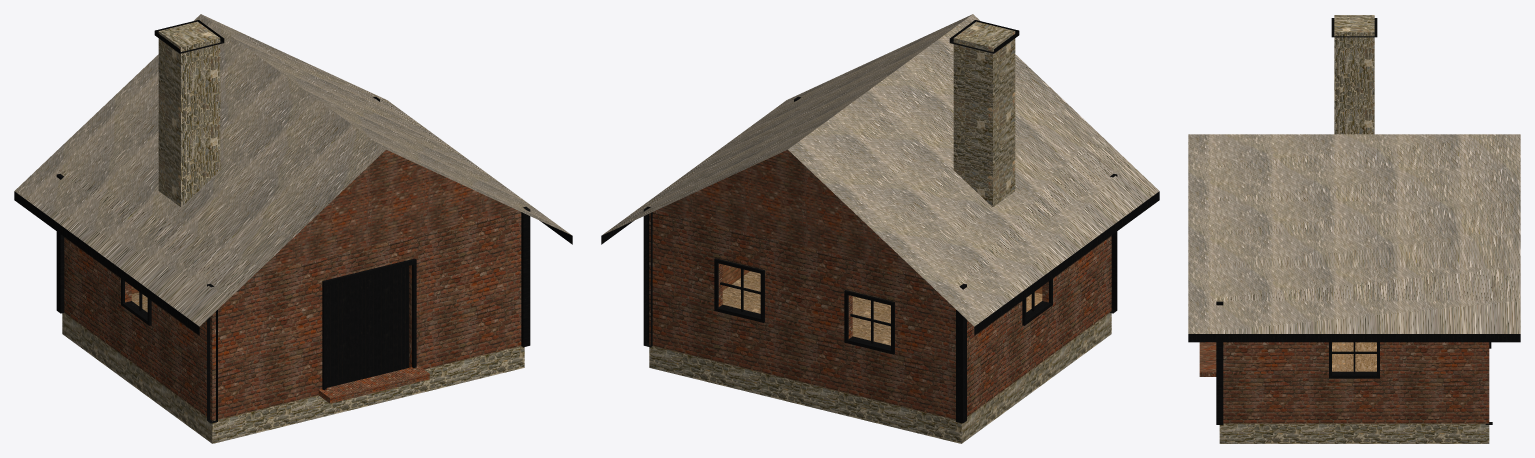
The model's file is smithy_01.glb.
3 views of the same model, side by side, from view 1: azimuth 30°, elevation 25°; view 2: azimuth 150°, elevation 25°; view 3: azimuth 270°, elevation 25° (orthographic). The views are drawn at different scales.
Parts seen in each view (by area): view 1: smithy_01; view 2: smithy_01; view 3: smithy_01.
Part boxes in pixels (x1=…): smithy_01: x1=14, y1=14, x2=572, y2=443; smithy_01: x1=601, y1=14, x2=1159, y2=443; smithy_01: x1=1188, y1=15, x2=1520, y2=443.
Size of the model in its own units: 8.6 by 7.53 by 7.4.
Materials: 6 (5 with a texture image).
